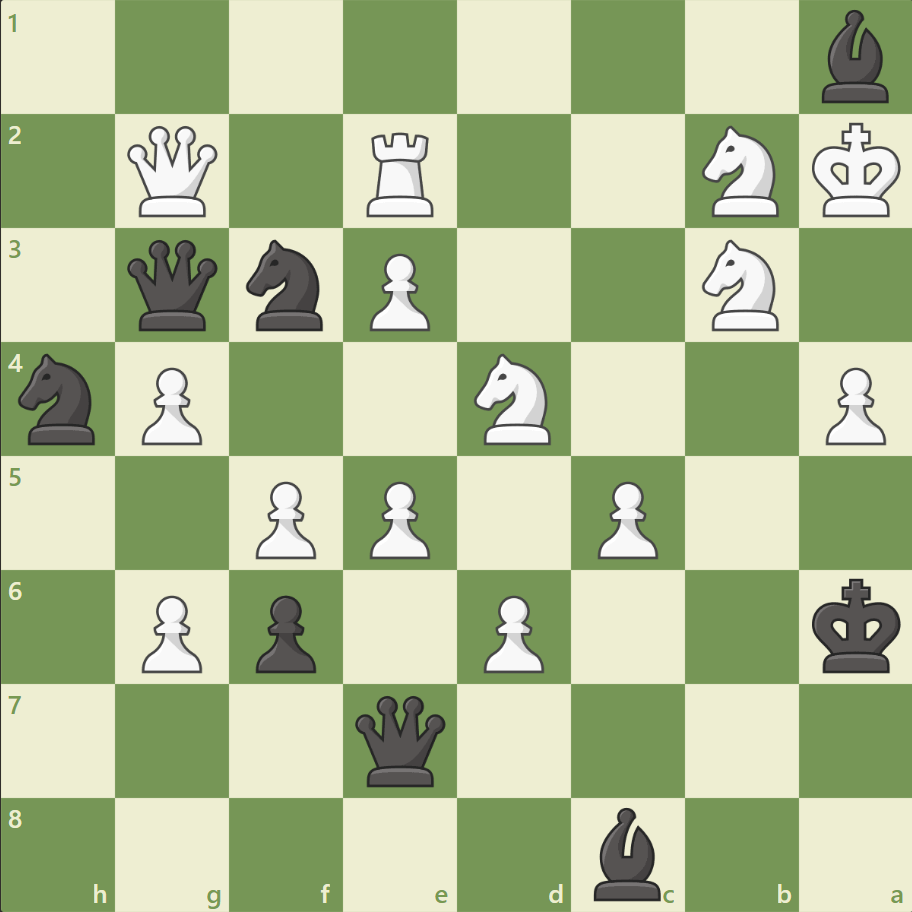K: (806, 117, 906, 225)
N: (692, 234, 789, 337), (465, 348, 562, 450), (692, 121, 789, 223)
P: (474, 586, 549, 677), (133, 586, 208, 677), (247, 473, 322, 564), (133, 359, 208, 450), (588, 473, 662, 564), (361, 473, 435, 564), (815, 359, 889, 450), (361, 246, 435, 337)
Q: (124, 122, 223, 222)
R: (360, 125, 442, 222)
b: (585, 801, 669, 904), (812, 6, 896, 109)
k: (806, 571, 906, 679)
n: (238, 234, 335, 337), (11, 348, 108, 450)
p: (247, 586, 322, 677)
q: (351, 690, 450, 789), (124, 236, 223, 335)
